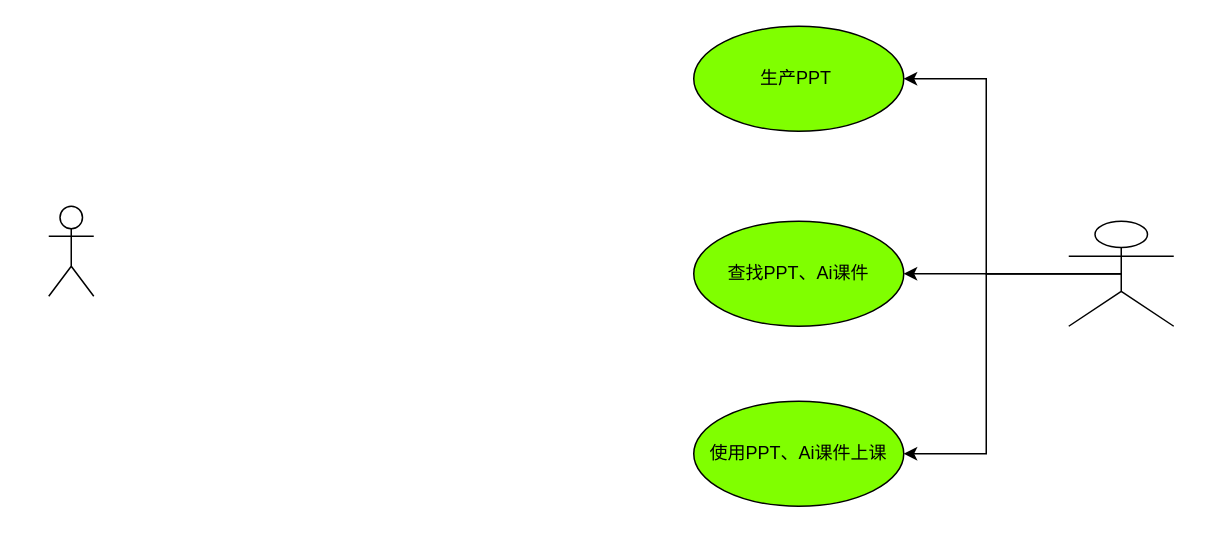
Image size: 1229x533. Some labels were removed from this diagram. The shapes that lost their labels are listed below. From the top down, each one's centre as x and y in pixels, then its label:
At point 70,250: "中下游学生".
At point 1120,273: "大二大三的长相， 30年教学经验的老师".
